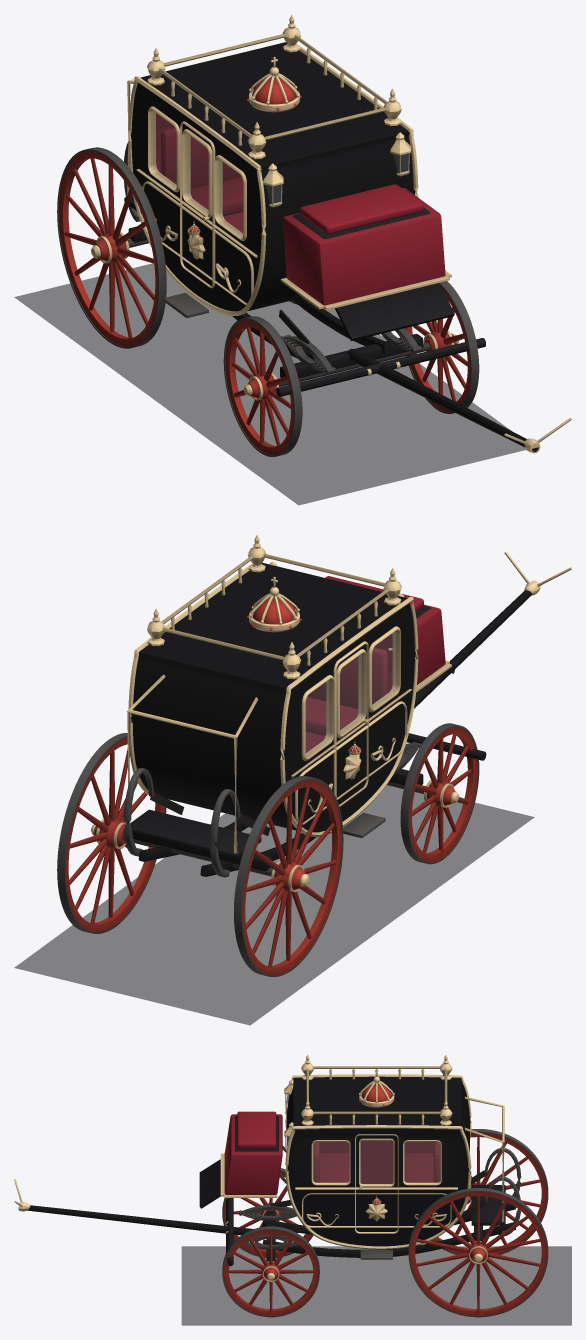
File: visitor_royal_coach.glb
The picture shows the model from 3 angles, top to bottom: view 1: azimuth 30°, elevation 25°; view 2: azimuth 150°, elevation 25°; view 3: azimuth 270°, elevation 25°; orthographic projection. The views are drawn at different scales.
Parts seen in each view (by area): view 1: visitor_royal_coach; view 2: visitor_royal_coach; view 3: visitor_royal_coach.
Part boxes in pixels (bbox=[...]): visitor_royal_coach: bbox=[14, 15, 571, 505]; visitor_royal_coach: bbox=[14, 535, 571, 1025]; visitor_royal_coach: bbox=[14, 1055, 571, 1325].
Size of the model in its own units: 2.3 by 2.94 by 6.86.
